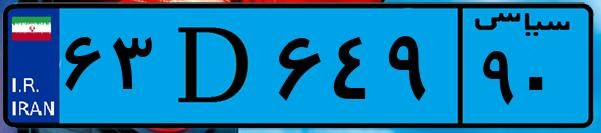0: (525, 38, 570, 115)
3: (110, 28, 158, 98)
4: (330, 28, 385, 110)
6: (270, 28, 330, 110), (57, 26, 110, 100)
9: (385, 28, 445, 110), (475, 38, 525, 113)
D: (158, 12, 270, 120)
